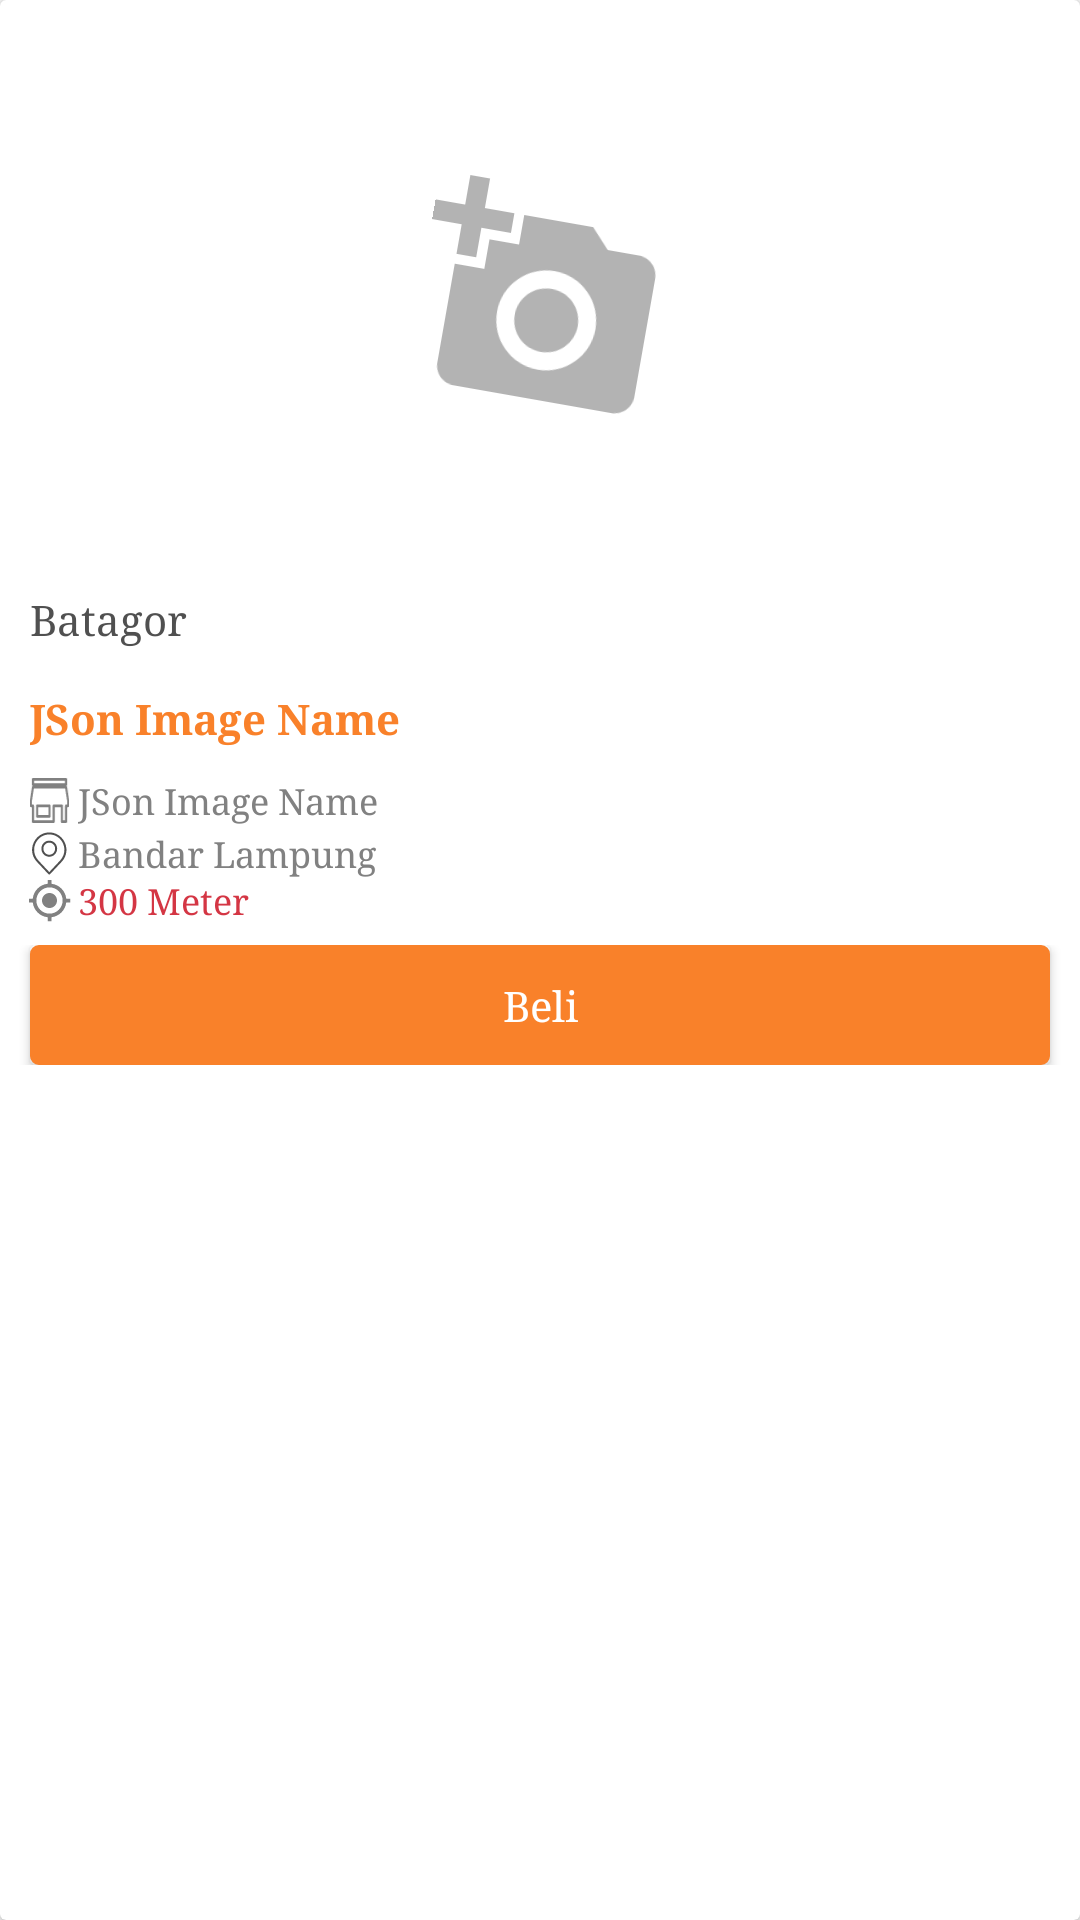

Icon bounding boxes for this 1080 x 1920 phone screenshot, format (x1, y1, x2, y2):
distance: (29, 880, 71, 922)
seller: (30, 778, 69, 823)
